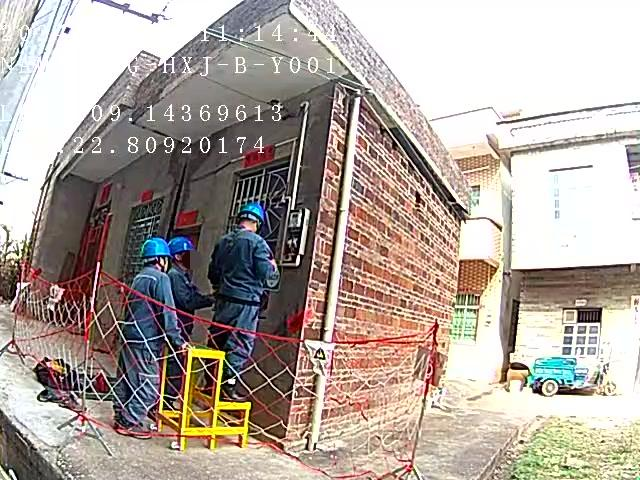halt: (171, 240, 200, 270), (144, 241, 173, 271), (240, 206, 269, 234)
